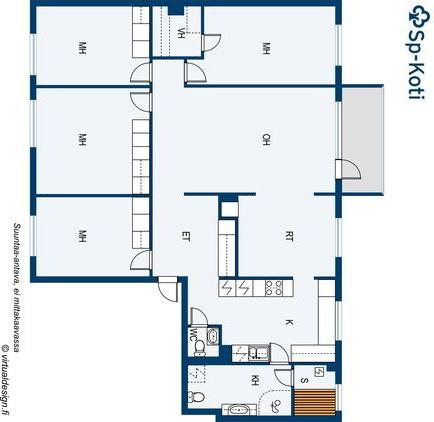bathroom: (187, 365, 292, 414), (187, 325, 220, 358)
door: (333, 157, 365, 183), (156, 275, 179, 305), (127, 90, 155, 114), (128, 61, 155, 84), (130, 248, 154, 273), (267, 342, 290, 368), (182, 62, 209, 84), (198, 32, 223, 55), (272, 366, 297, 388), (190, 305, 209, 327)
perimeter: (29, 1, 342, 421)
window: (334, 97, 344, 161), (331, 296, 344, 344), (27, 210, 39, 261), (333, 214, 346, 261), (27, 96, 38, 151), (333, 21, 343, 72), (28, 30, 38, 80), (334, 380, 344, 415)
